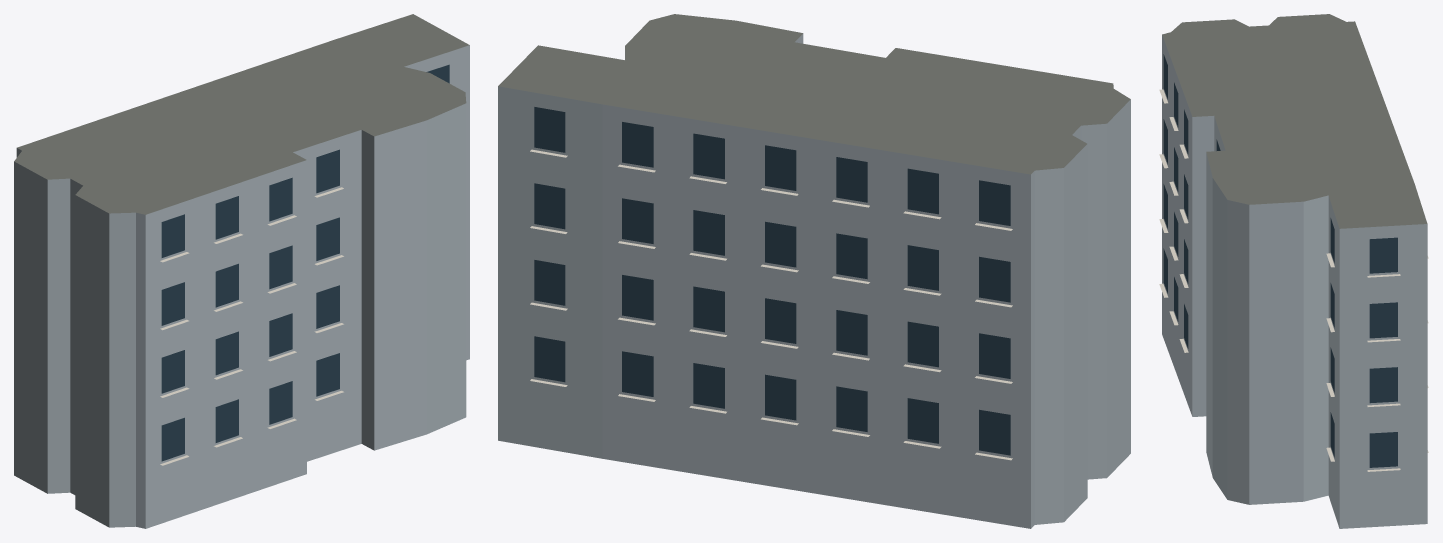
3 views of the same model, side by side, from view 1: azimuth 30°, elevation 25°; view 2: azimuth 150°, elevation 25°; view 3: azimuth 270°, elevation 25° (orthographic). The views are drawn at different scales.
Visible parts, largest first — view 1: Footprint 0, Inferred window bays, Window sills; view 2: Footprint 0, Inferred window bays, Window sills; view 3: Footprint 0, Inferred window bays, Window sills.
Boxes of the visible parts, box(x1,y1,x2,y2) form: Footprint 0: box(14, 14, 469, 528); Inferred window bays: box(161, 64, 449, 461); Window sills: box(160, 187, 343, 465); Footprint 0: box(498, 14, 1130, 528); Inferred window bays: box(534, 107, 1010, 455); Window sills: box(530, 149, 1012, 460); Footprint 0: box(1162, 14, 1427, 528); Inferred window bays: box(1163, 54, 1397, 467); Window sills: box(1159, 89, 1428, 471).
Bounding box in the file's own units: 22.12 × 14.35 × 11.68.
